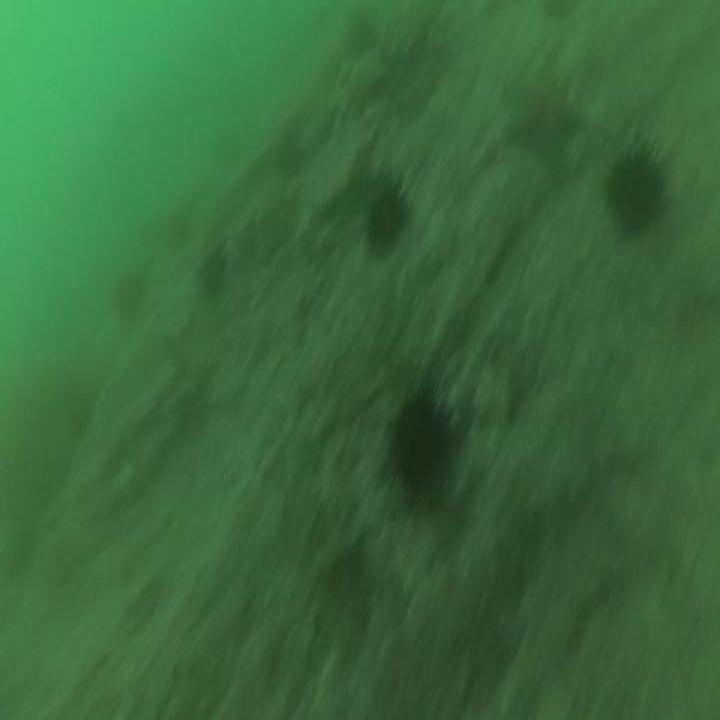echinus: (392, 402, 451, 501), (612, 150, 664, 229), (369, 196, 409, 254), (197, 246, 227, 300)
starfish: (509, 75, 581, 169)
